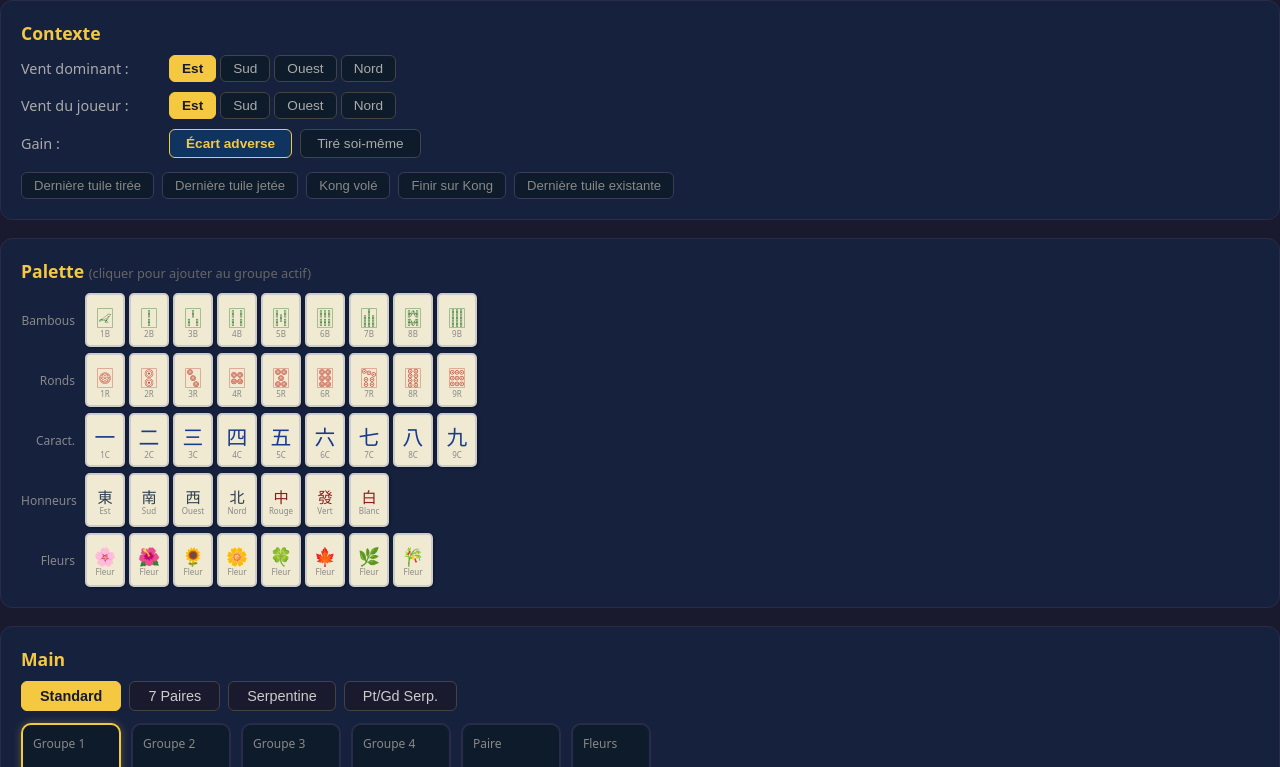
CalculatorTab — changement de mode › mode Serpentine affiche la section de sélection des familles
The image size is (1280, 767).
Click the button "Serpentine".
click(282, 696)  # box [228,681,336,711]
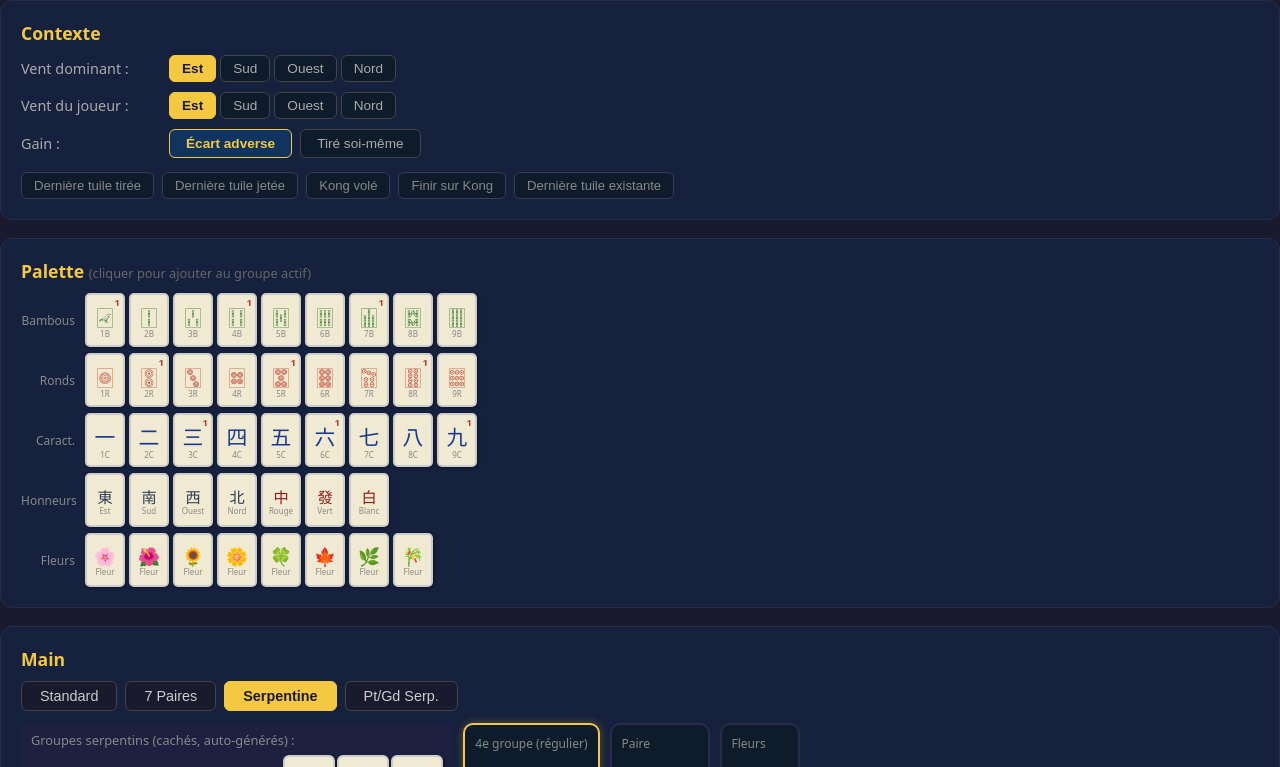
Result: the text "Groupes serpentins (cachés, auto-générés) :" is shown at [31,731,294,749]
Result: the text "4e groupe (régulier)" is shown at [475,735,588,752]
